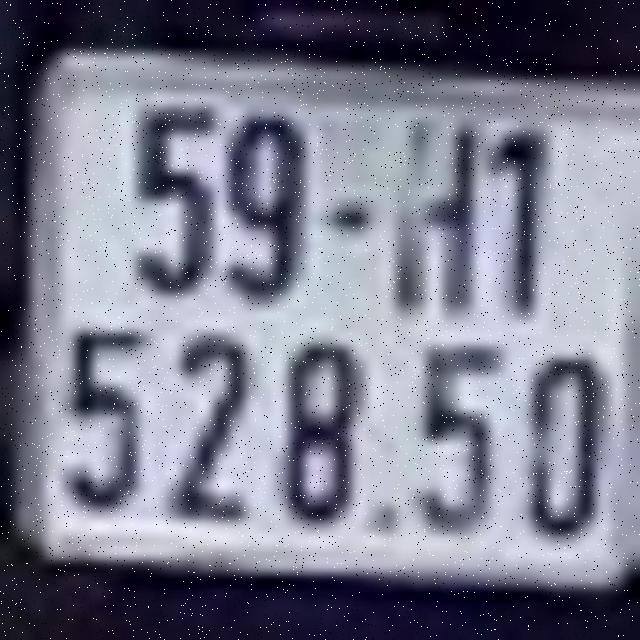0: (529, 352, 601, 538)
1: (490, 125, 547, 318)
2: (170, 324, 251, 524)
5: (129, 96, 218, 297), (64, 322, 148, 511), (420, 340, 501, 534)
8: (284, 337, 358, 525)
9: (224, 110, 305, 302)
H: (394, 114, 478, 317)
